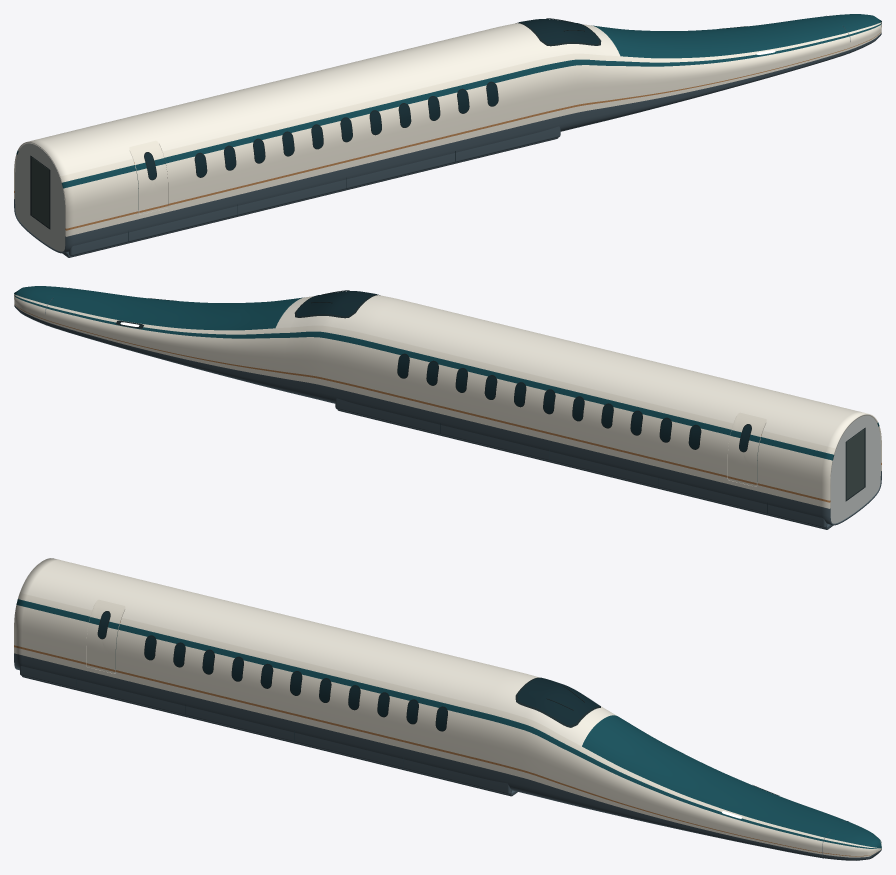
File: maglev-cab.glb
3 renders of one model, top to bottom at view 1: azimuth 30°, elevation 25°; view 2: azimuth 150°, elevation 25°; view 3: azimuth 330°, elevation 25°, orthographic.
Visible parts, largest first — view 1: body, door_right_rear; view 2: body, door_left_rear; view 3: body, door_right_rear.
Part boxes in pixels (x1,y1,x2,y2): body: (14, 14, 881, 257); door_right_rear: (129, 140, 167, 214); body: (14, 286, 881, 529); door_left_rear: (728, 412, 766, 486); body: (14, 558, 881, 860); door_right_rear: (86, 599, 125, 673).
Bounding box in the file's own units: 27 × 2.95 × 2.93.
